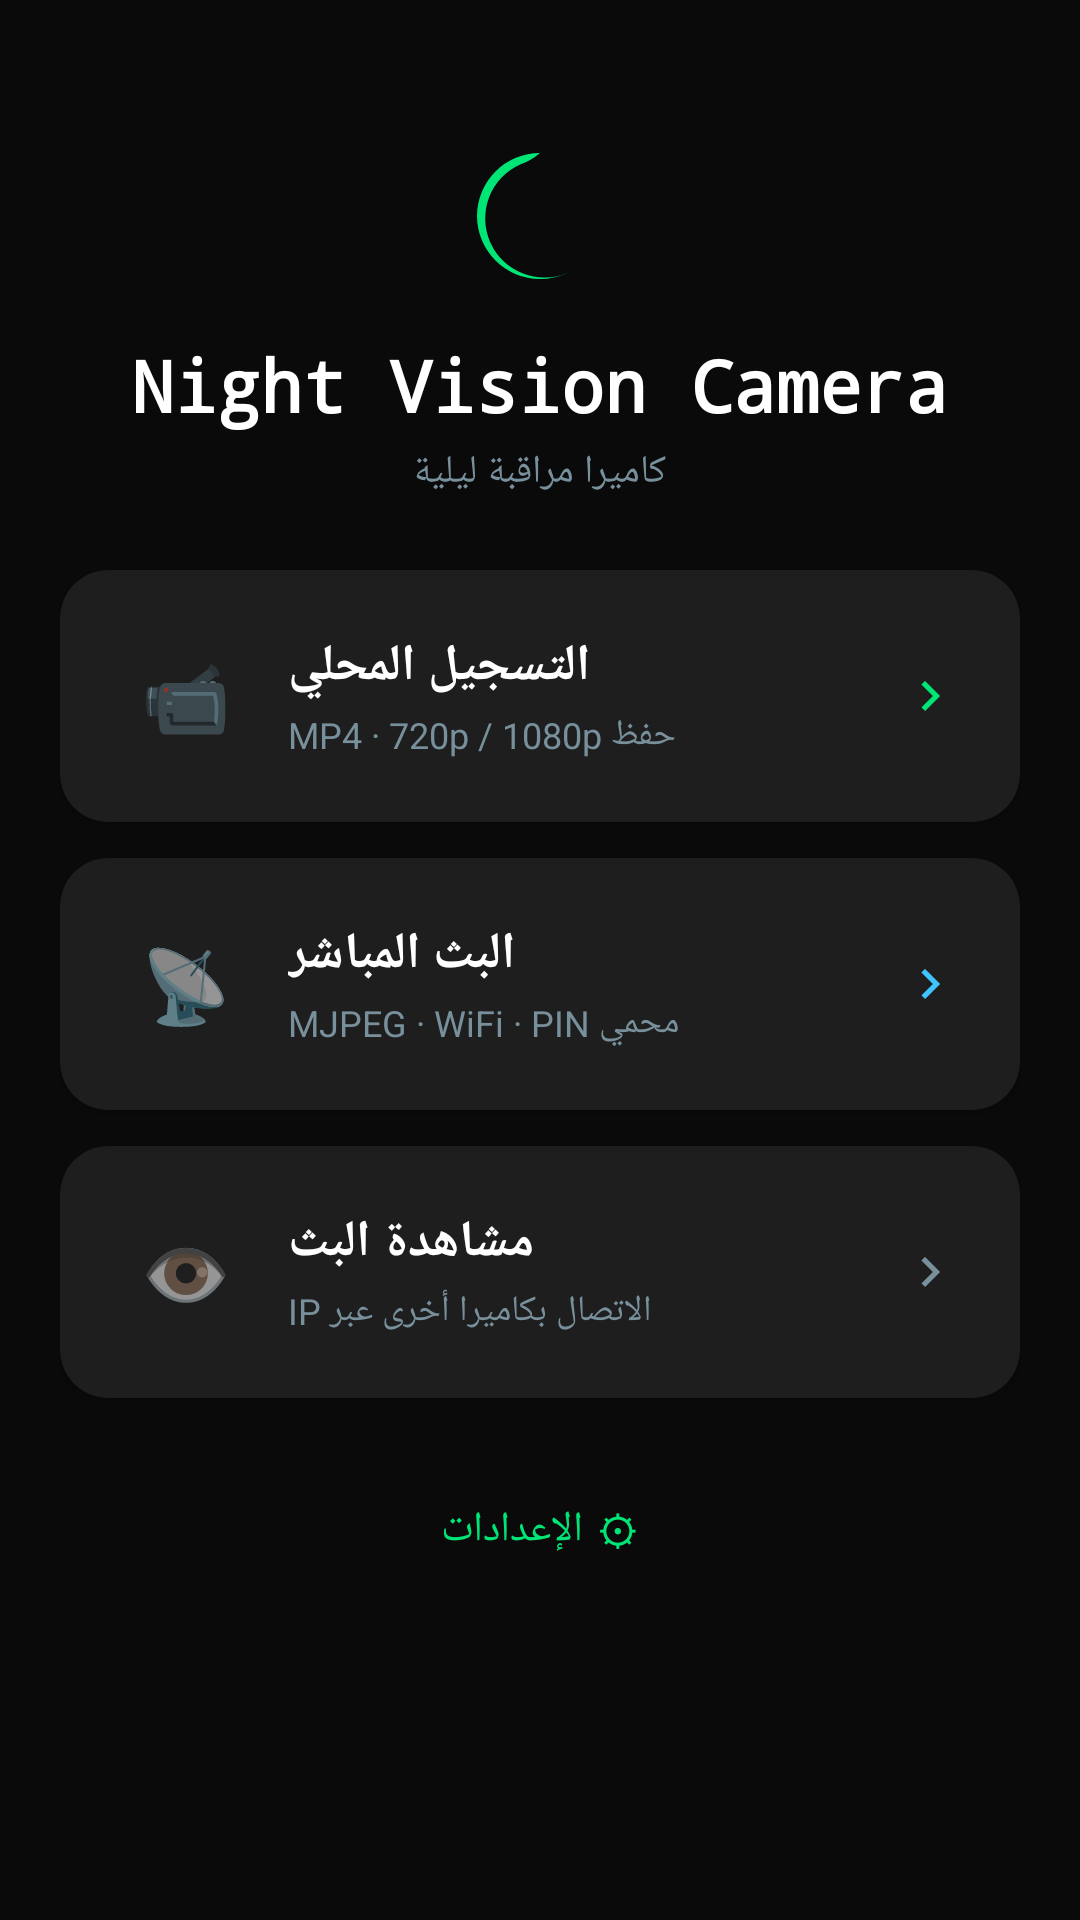

Screen size 1080 × 1920. Icon name, then its box in pixels as rect(x1, y1, x2, y2):
arrow right: rect(921, 681, 940, 711), rect(921, 969, 940, 999), rect(921, 1257, 940, 1287)
moon: rect(477, 153, 564, 279)
